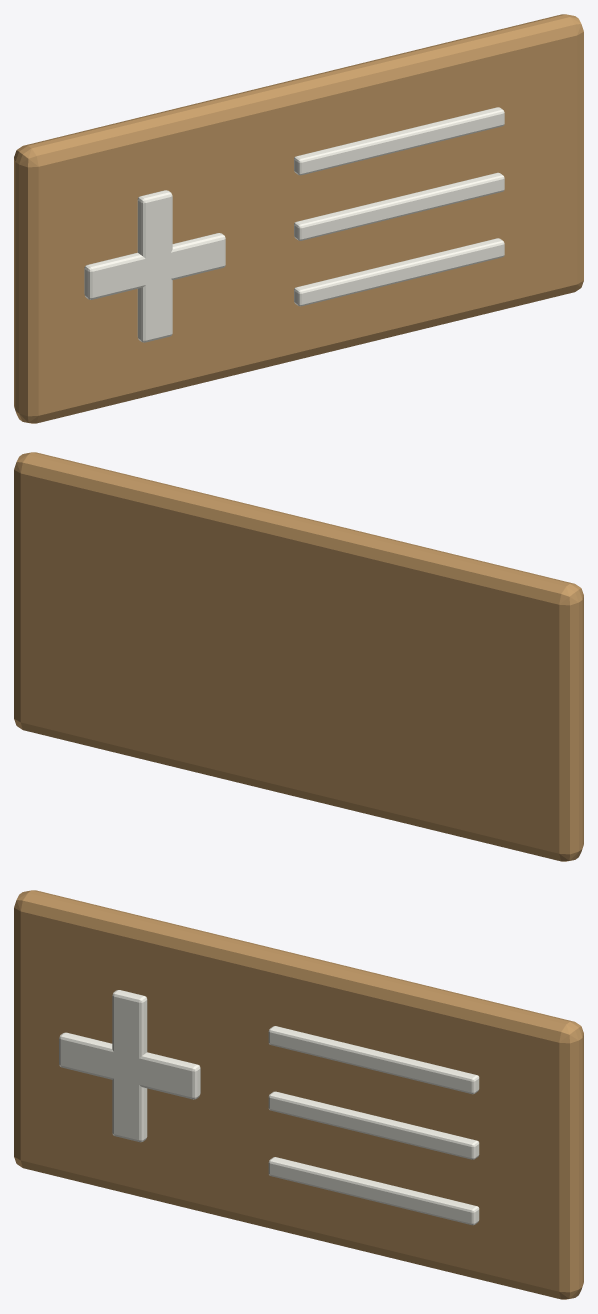
Rendered from lobby_T1_wayfinding.glb.
The picture shows the model from 3 angles, top to bottom: view 1: azimuth 30°, elevation 25°; view 2: azimuth 150°, elevation 25°; view 3: azimuth 330°, elevation 25°; orthographic projection.
Visible parts, largest first — view 1: lobby_T1_wayfinding__Static_Assembly; view 2: lobby_T1_wayfinding__Static_Assembly; view 3: lobby_T1_wayfinding__Static_Assembly.
Part boxes in pixels (bbox=[...]): lobby_T1_wayfinding__Static_Assembly: bbox=[14, 14, 583, 423]; lobby_T1_wayfinding__Static_Assembly: bbox=[14, 452, 583, 861]; lobby_T1_wayfinding__Static_Assembly: bbox=[14, 890, 583, 1299].
Size of the model in its own units: 0.9 by 0.42 by 0.069.
